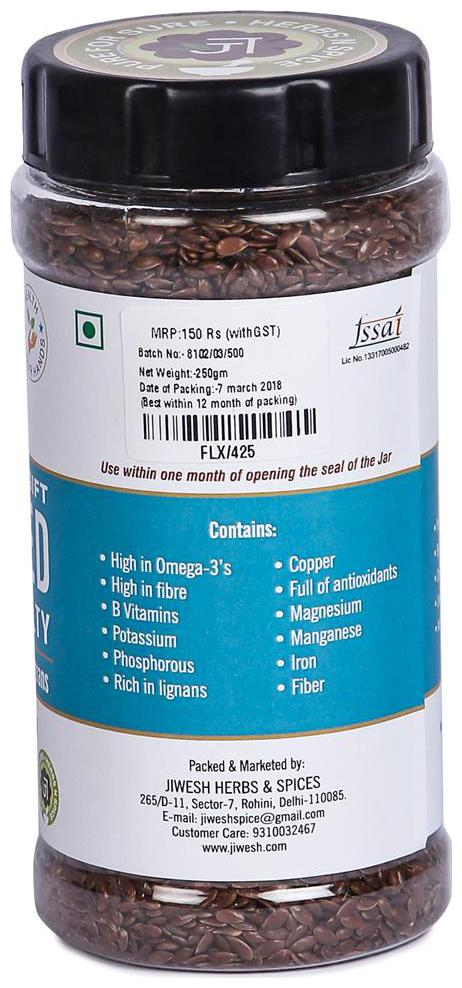fssai: (351, 300, 406, 350)
